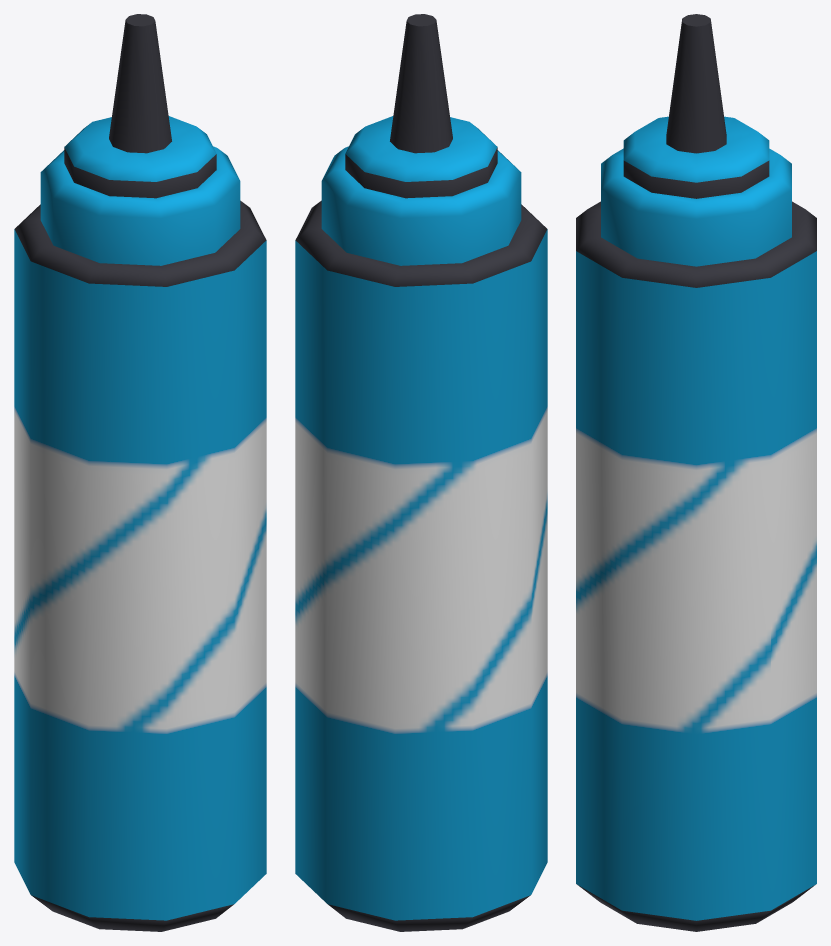
File: Saucer.fbx
3 views of the same model, side by side, from view 1: azimuth 30°, elevation 25°; view 2: azimuth 150°, elevation 25°; view 3: azimuth 270°, elevation 25° (orthographic).
Visible parts, largest first — view 1: saucer; view 2: saucer; view 3: saucer.
Part boxes in pixels (box(x1,y1,x2,y2)): saucer: box(14, 14, 266, 931); saucer: box(295, 14, 547, 931); saucer: box(576, 14, 816, 931).
Bounding box in the file's own units: 2.84 × 10.76 × 2.7.
1 material, 1 textured.
